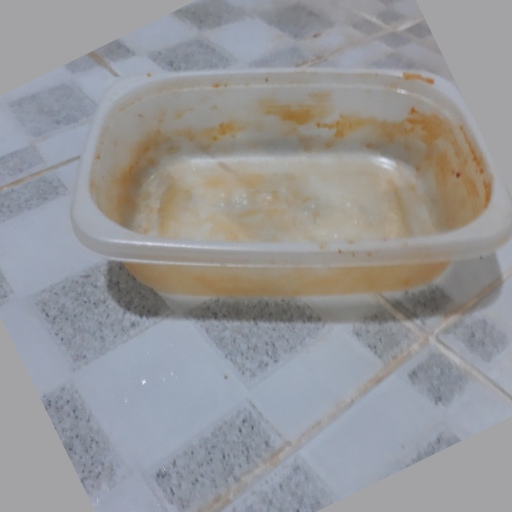Plastic_4: (72, 67, 510, 297)
